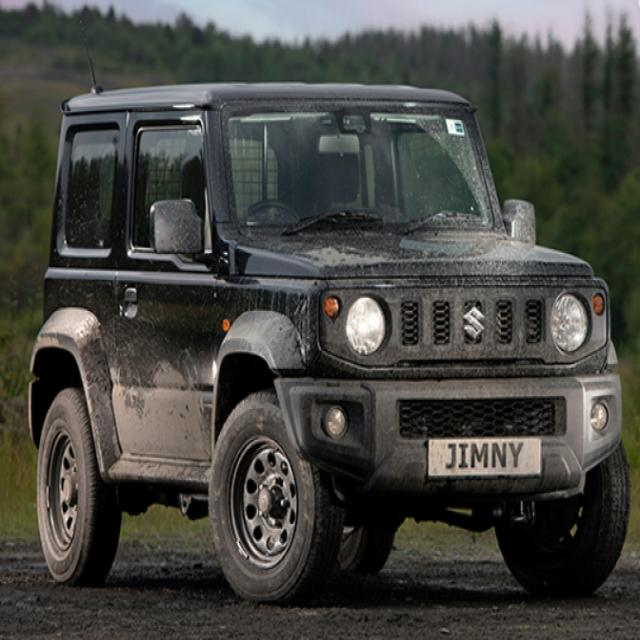off road: (26, 86, 624, 576)
